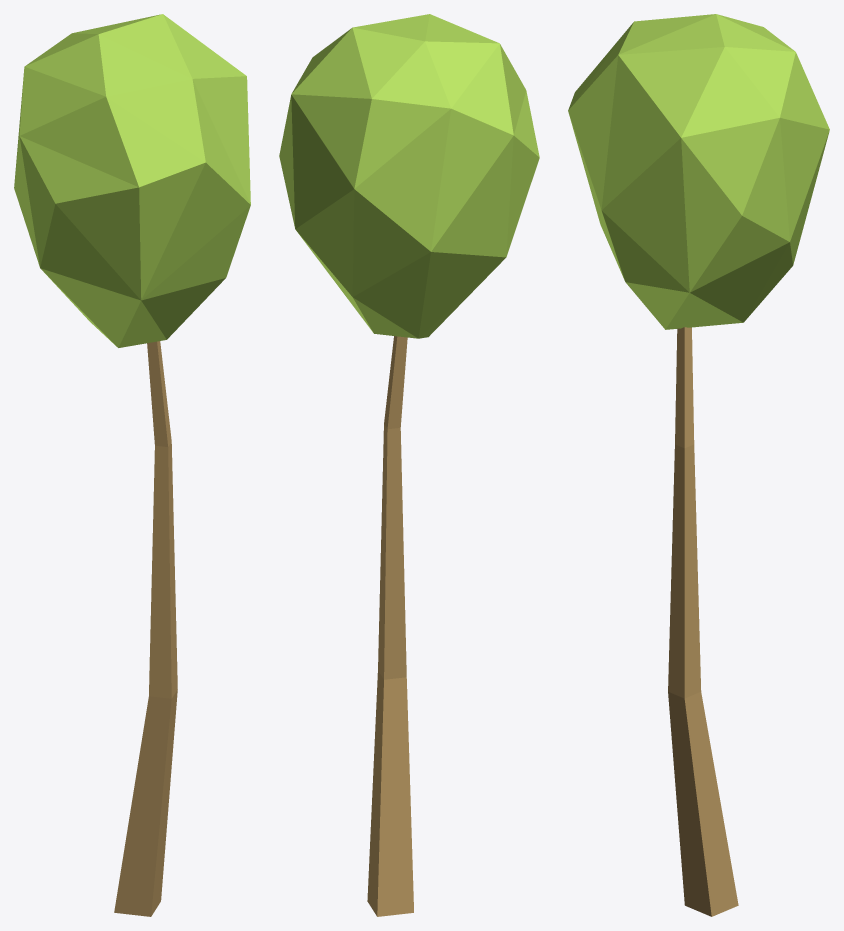
File: Simple_Tree_s_03_LOD.fbx
3 views of the same model, side by side, from view 1: azimuth 30°, elevation 25°; view 2: azimuth 150°, elevation 25°; view 3: azimuth 270°, elevation 25° (orthographic).
Visible parts, largest first — view 1: Simple_Tree_s_03_LOD0; view 2: Simple_Tree_s_03_LOD0; view 3: Simple_Tree_s_03_LOD0.
Boxes of the visible parts, left/top/right/bottom form: Simple_Tree_s_03_LOD0: left=14, top=14, right=250, bottom=916; Simple_Tree_s_03_LOD0: left=279, top=14, right=539, bottom=916; Simple_Tree_s_03_LOD0: left=568, top=14, right=829, bottom=916.
Size of what is drawn, in the model's own units: 104 by 402 by 109.
